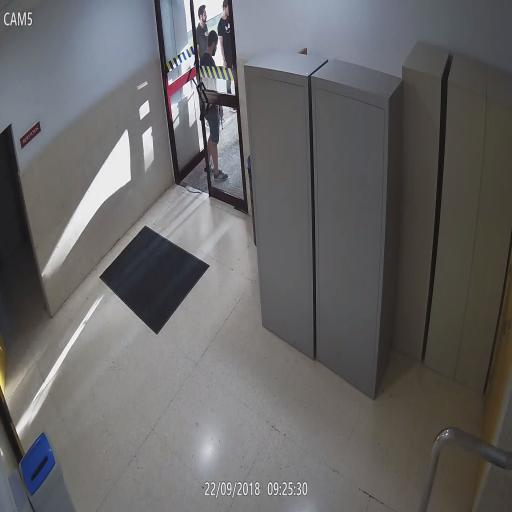Handgun: (216, 106, 226, 130)
